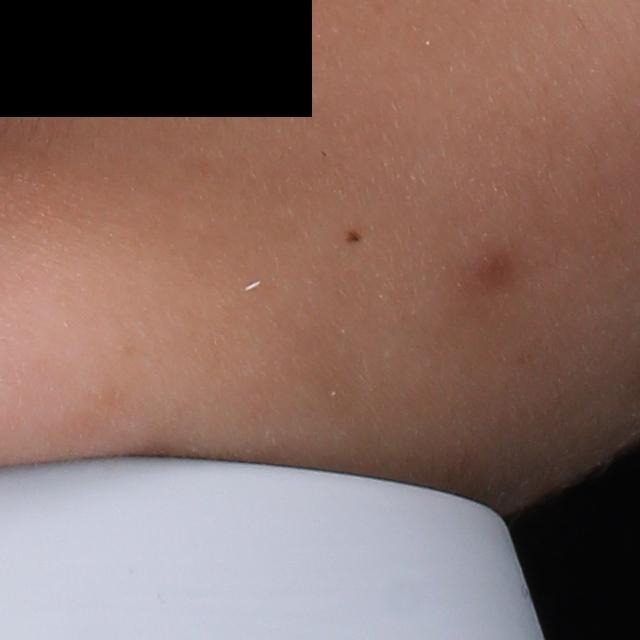nevus: (345, 229, 363, 244)
